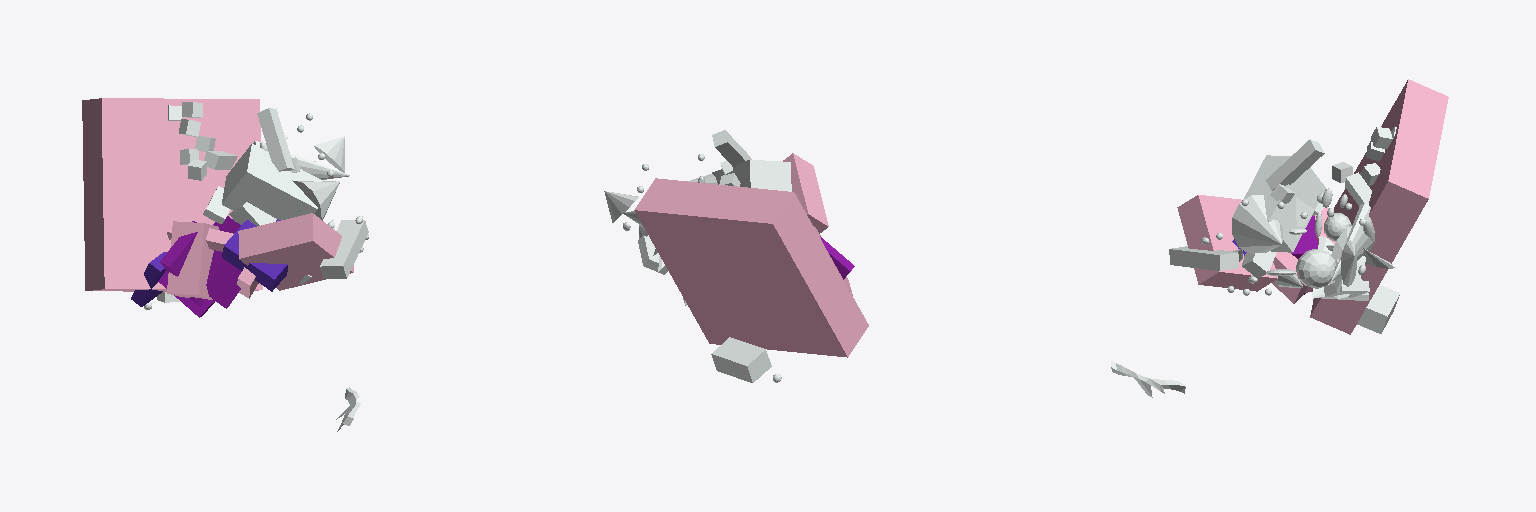
The model's file is model-triangulated.obj.
3 views of the same model, side by side, from view 1: azimuth 30°, elevation 25°; view 2: azimuth 150°, elevation 25°; view 3: azimuth 270°, elevation 25° (orthographic).
Parts seen in each view (by area): view 1: group[number redacted], group[number redacted], group[number redacted], group[number redacted], group[number redacted], group[number redacted], group[number redacted], group[number redacted], group[number redacted], group[number redacted], group[number redacted], group[number redacted] (+3 smaller); view 2: group[number redacted], group[number redacted], group[number redacted], group[number redacted], group[number redacted], group[number redacted], group[number redacted]; view 3: group[number redacted], group[number redacted], group[number redacted], group[number redacted], group[number redacted], group[number redacted], group[number redacted], group[number redacted], group[number redacted], group[number redacted], group[number redacted], group[number redacted] (+2 smaller).
Part boxes in pixels (x1,y1,x2,y2): group[number redacted]: (82, 98, 262, 291); group[number redacted]: (238, 213, 353, 290); group[number redacted]: (222, 144, 321, 219); group[number redacted]: (167, 221, 218, 301); group[number redacted]: (320, 220, 368, 278); group[number redacted]: (206, 216, 241, 308); group[number redacted]: (222, 219, 287, 291); group[number redacted]: (257, 108, 294, 171); group[number redacted]: (292, 180, 339, 220); group[number redacted]: (160, 221, 213, 307); group[number redacted]: (131, 252, 166, 306); group[number redacted]: (314, 136, 344, 172); group[number redacted]: (634, 178, 868, 357); group[number redacted]: (711, 337, 771, 382); group[number redacted]: (783, 153, 828, 233); group[number redacted]: (712, 160, 791, 191); group[number redacted]: (712, 130, 751, 167); group[number redacted]: (604, 191, 638, 222); group[number redacted]: (638, 235, 667, 274); group[number redacted]: (1310, 79, 1448, 334); group[number redacted]: (1177, 195, 1277, 291); group[number redacted]: (1243, 155, 1325, 252); group[number redacted]: (1232, 195, 1282, 253); group[number redacted]: (1169, 246, 1238, 270); group[number redacted]: (1296, 249, 1335, 288); group[number redacted]: (1266, 139, 1324, 190); group[number redacted]: (1357, 285, 1399, 333); group[number redacted]: (1331, 203, 1372, 281); group[number redacted]: (1111, 360, 1185, 397); group[number redacted]: (1272, 252, 1307, 303); group[number redacted]: (1242, 251, 1276, 283).
Bounding box in the file's own units: 1.58 × 1.59 × 1.84.